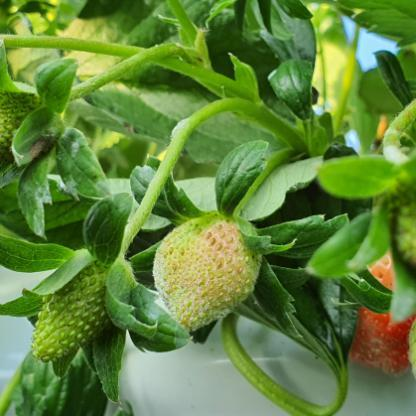Strawberry_Powdery_Mildew_Fruit: (152, 214, 264, 334)
